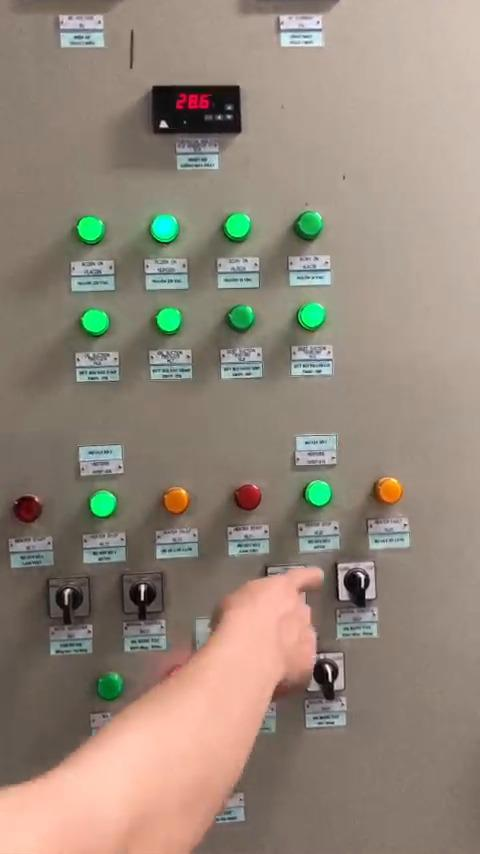led: (222, 211, 256, 245), (10, 492, 44, 525), (300, 480, 333, 510), (74, 213, 105, 244), (234, 479, 264, 511), (297, 208, 328, 238), (373, 475, 403, 506), (164, 489, 194, 519), (88, 490, 118, 520), (228, 303, 258, 331), (154, 308, 184, 336), (152, 215, 180, 244), (82, 305, 110, 334), (298, 303, 326, 331), (98, 674, 125, 699)
twist: (48, 572, 93, 623), (120, 570, 166, 618), (335, 560, 376, 605), (305, 652, 345, 695)
